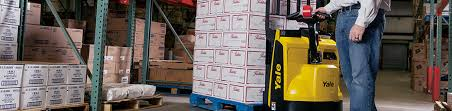Pallet Jack: (186, 1, 347, 111)
